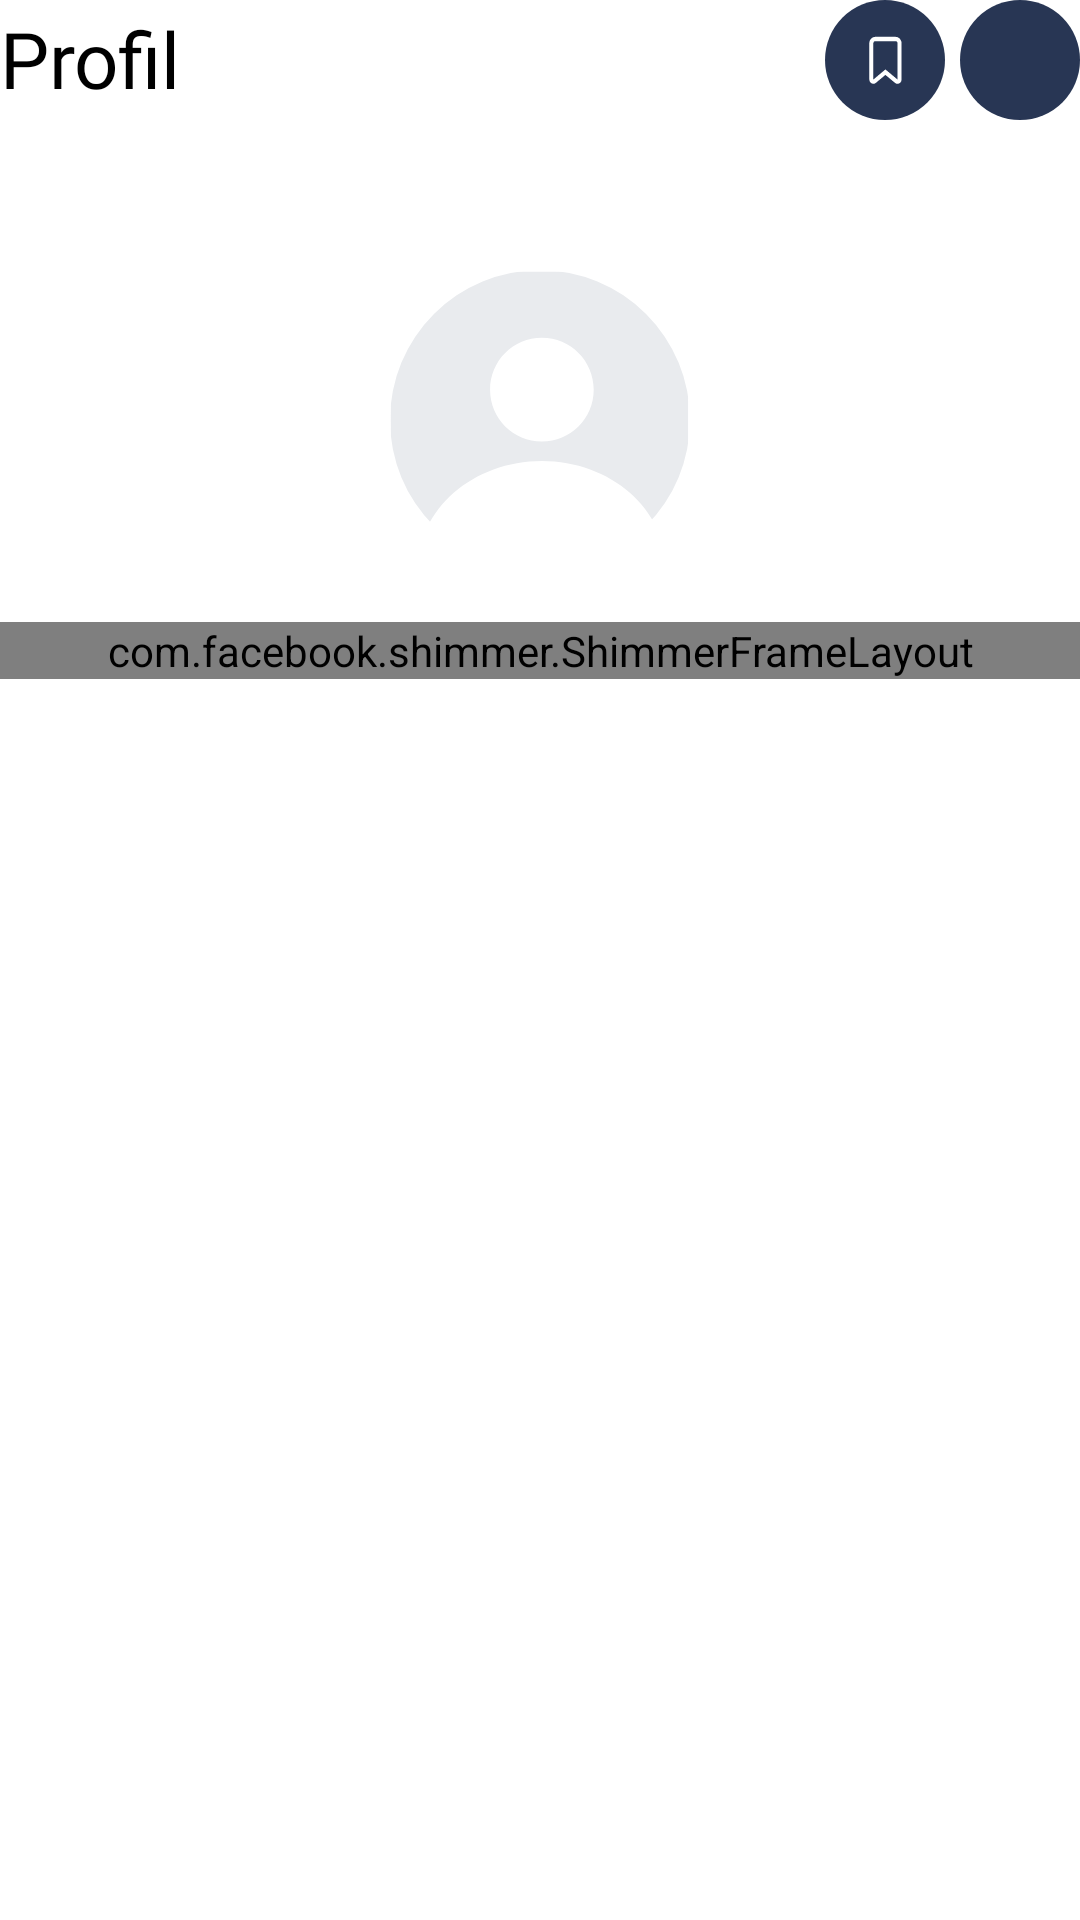

Icons on this 1080w x 1920h Android screen, each with the point to tap as (x=x, y=y):
bookmark false: (x=885, y=60)
